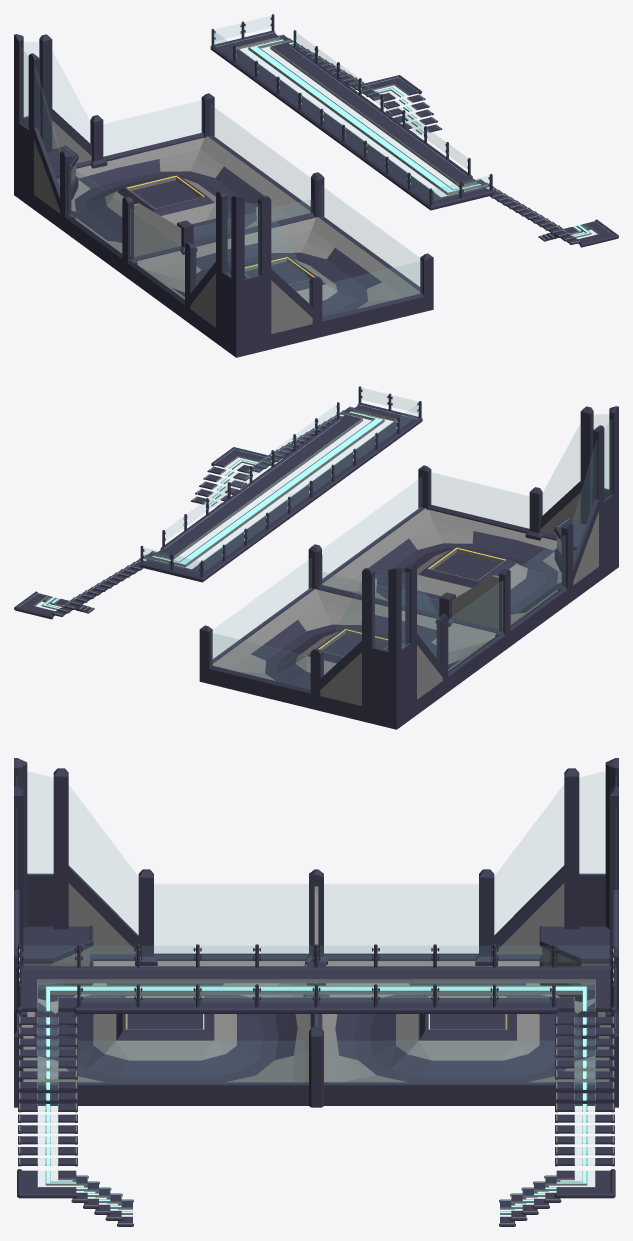
File: globalScene.glb
3 views of the same model, one above another, from view 1: azimuth 30°, elevation 25°; view 2: azimuth 150°, elevation 25°; view 3: azimuth 270°, elevation 25° (orthographic). The views are drawn at different scales.
Parts seen in each view (by area): view 1: TowerDuels, Stage, BaseBlockModel.001, BaseBlockModel, MidStage.001, MidStage; view 2: TowerDuels, Stage, BaseBlockModel, BaseBlockModel.001, MidStage, MidStage.001; view 3: TowerDuels, Stage, BaseBlockModel, BaseBlockModel.001, MidStage, MidStage.001, Glass.001, Glass.009, Glass.005, Glass.008, Glass.016, Glass.019 (+12 smaller).
Part boxes in pixels (bbox=[...]): TowerDuels: bbox=[14, 34, 433, 357]; Stage: bbox=[210, 31, 493, 210]; BaseBlockModel.001: bbox=[117, 174, 213, 215]; BaseBlockModel: bbox=[229, 255, 324, 290]; MidStage.001: bbox=[564, 219, 618, 247]; MidStage: bbox=[365, 75, 421, 101]; TowerDuels: bbox=[199, 406, 618, 729]; Stage: bbox=[139, 403, 422, 582]; BaseBlockModel: bbox=[419, 546, 515, 587]; BaseBlockModel.001: bbox=[308, 627, 403, 662]; MidStage: bbox=[14, 591, 68, 619]; MidStage.001: bbox=[211, 447, 267, 473]; TowerDuels: bbox=[14, 758, 618, 1107]; Stage: bbox=[16, 966, 616, 1013]; BaseBlockModel: bbox=[117, 995, 213, 1040]; BaseBlockModel.001: bbox=[419, 995, 515, 1040]; MidStage: bbox=[554, 1169, 615, 1198]; MidStage.001: bbox=[17, 1169, 78, 1198]; Glass.001: bbox=[320, 946, 371, 961]; Glass.009: bbox=[261, 946, 312, 961]; Glass.005: bbox=[498, 986, 549, 1001]; Glass.008: bbox=[320, 986, 371, 1001]; Glass.016: bbox=[261, 986, 312, 1001]; Glass.019: bbox=[83, 986, 134, 1001].
Size of what is drawn, in the model's own units: 32 by 12.75 by 32.
